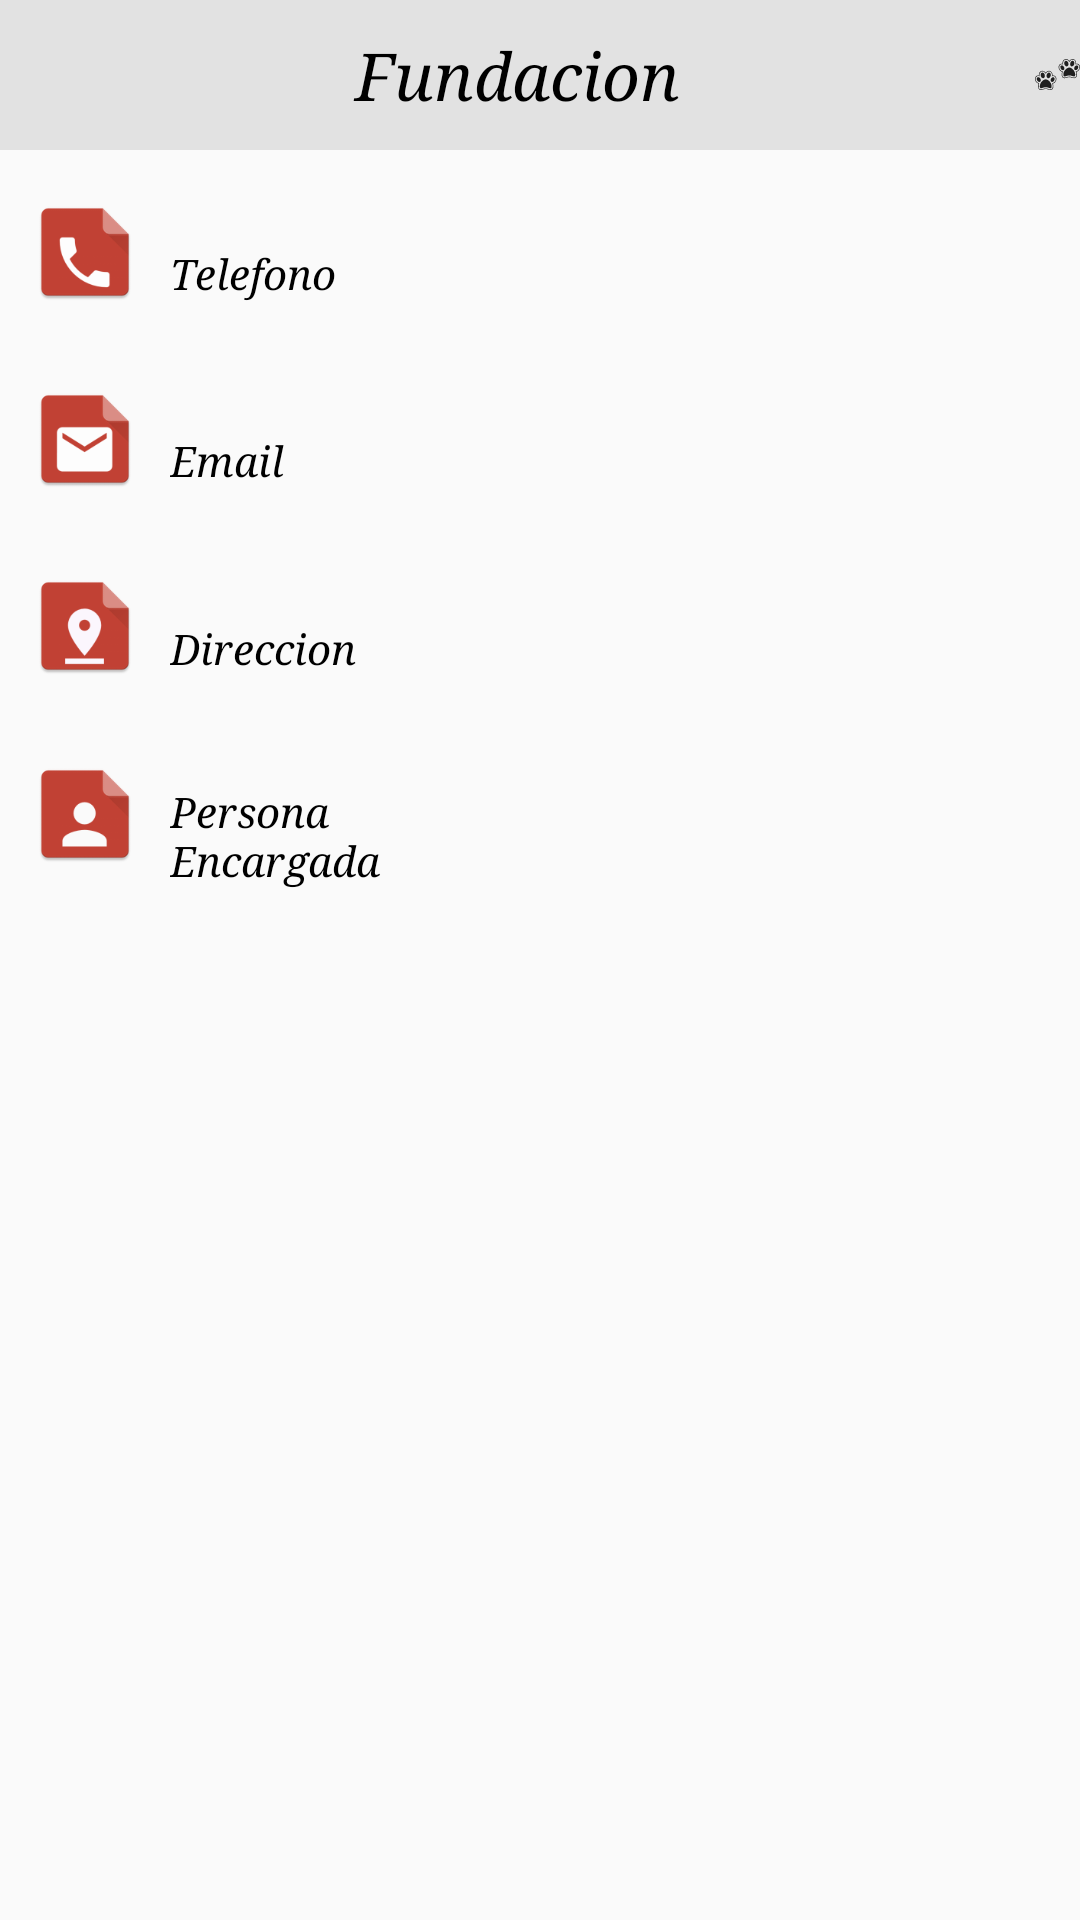

Named icons in this screenshot (1080px x 1920px) and their centers, [x,y]:
address: [85,627]
phone: [85,253]
